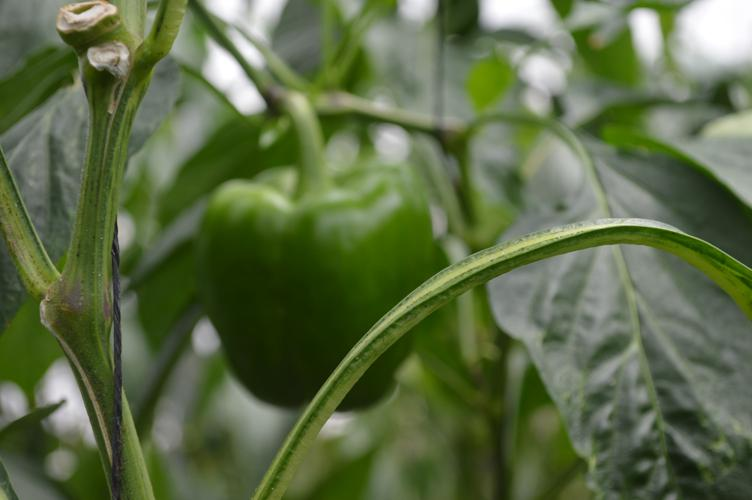BellPepper: (198, 171, 437, 406)
